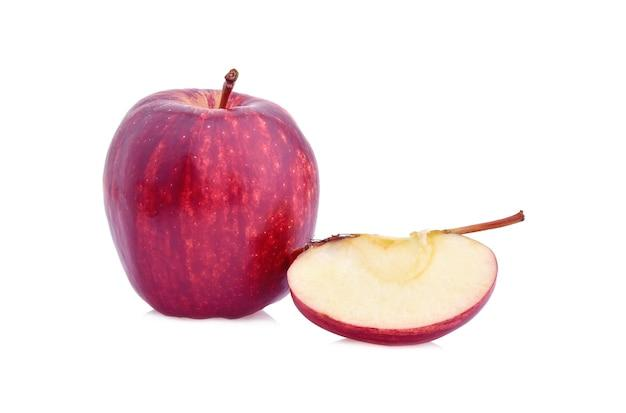apples: (89, 53, 537, 372)
